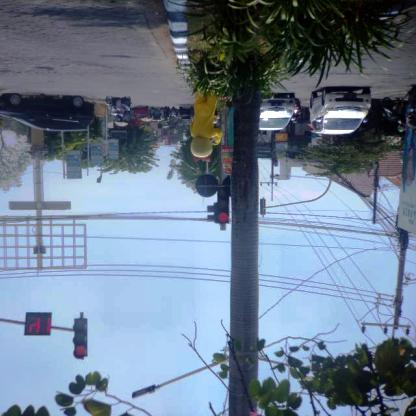Traffic Light -Red-: (72, 316, 89, 360), (216, 185, 229, 224)
